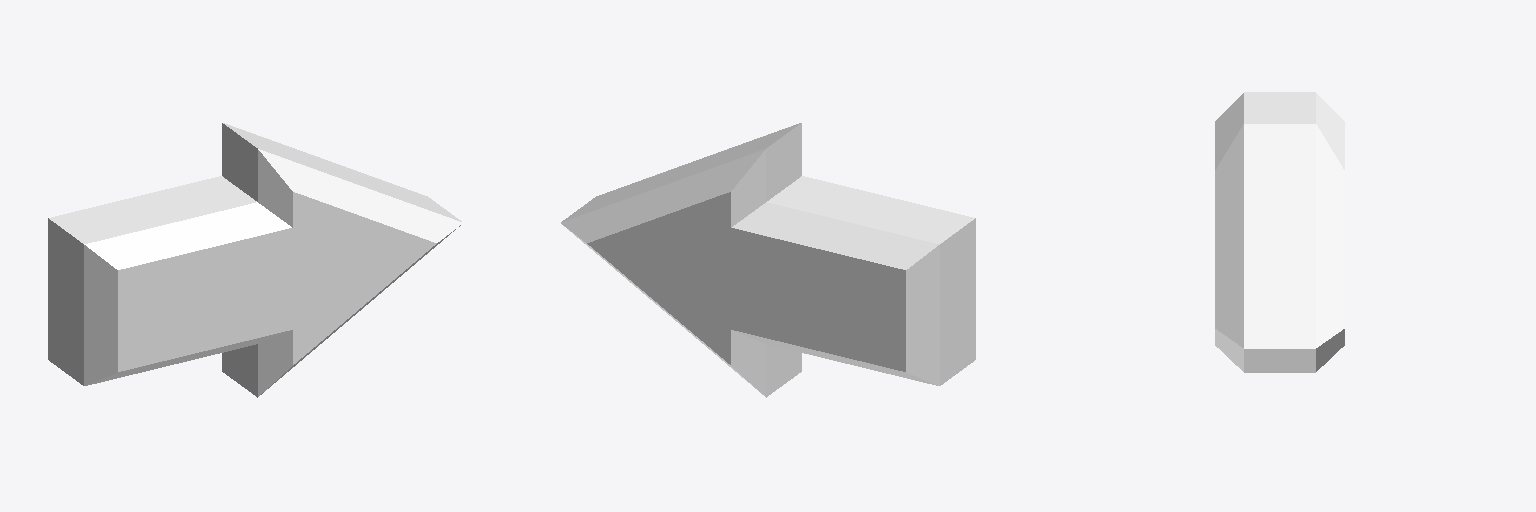
File: arrow.obj
3 views of the same model, side by side, from view 1: azimuth 30°, elevation 25°; view 2: azimuth 150°, elevation 25°; view 3: azimuth 270°, elevation 25° (orthographic).
Parts seen in each view (by area): view 1: Arrow; view 2: Arrow; view 3: Arrow.
Boxes of the visible parts, x1,y1,x2,y2 form: Arrow: [48, 123, 462, 397]; Arrow: [561, 123, 975, 397]; Arrow: [1215, 92, 1344, 372].
Size of the model in its own units: 2.03 by 1.27 by 0.6.